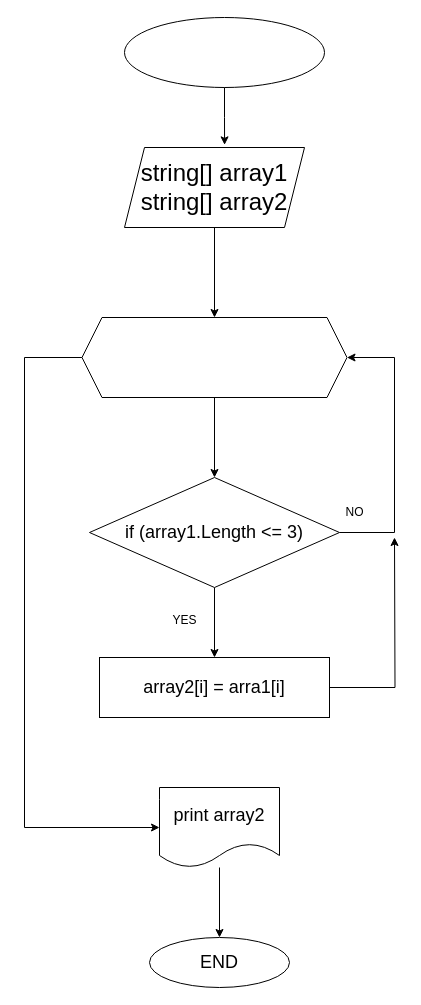
This 421x1005 diagram has some shape labels left out. Here are the shapes that lost their labels. From the top down, the box of each, then its label:
(124, 16, 324, 88): Start
(81, 316, 347, 398): int i = 0; i < array1.Length; i++
